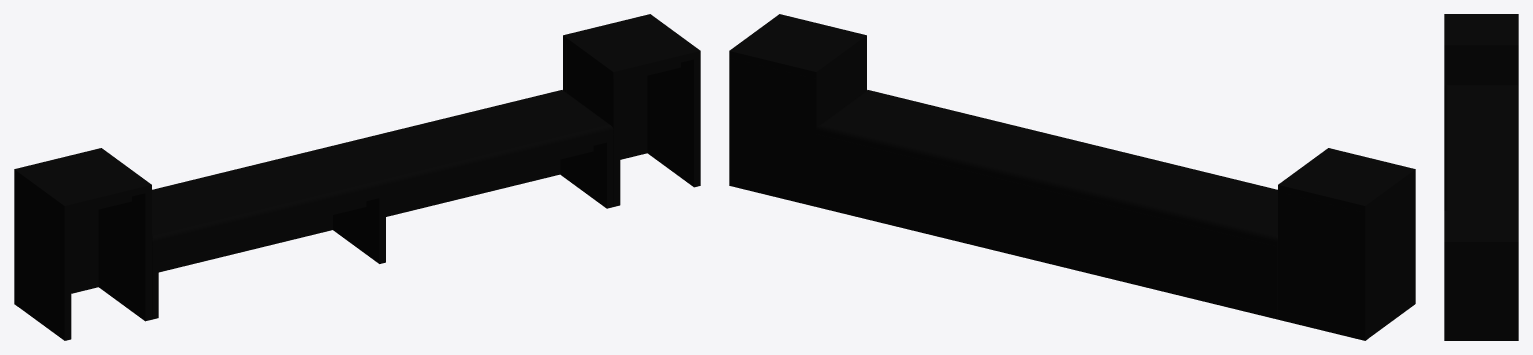
The model's file is LowPoly_campu_bench.fbx.
The picture shows the model from 3 angles, left to right: view 1: azimuth 30°, elevation 25°; view 2: azimuth 150°, elevation 25°; view 3: azimuth 270°, elevation 25°; orthographic projection. The views are drawn at different scales.
Parts seen in each view (by area): view 1: Cube.001; view 2: Cube.001; view 3: Cube.001.
Part boxes in pixels (x1,y1,x2,y2): Cube.001: (14, 14, 700, 340); Cube.001: (729, 14, 1415, 340); Cube.001: (1444, 14, 1518, 340).
Size of the model in its own units: 364 by 73.77 by 50.02.
1 material, 1 textured.
